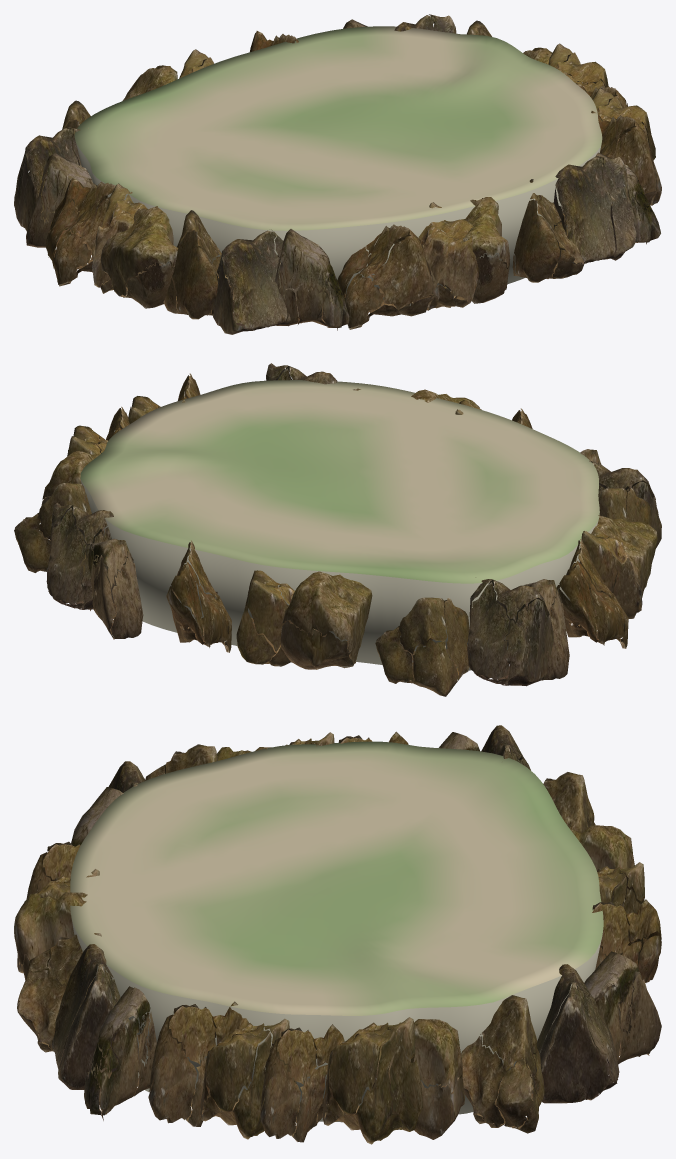
Rendered from sculpted_island_0.glb.
3 renders of one model, top to bottom at view 1: azimuth 30°, elevation 25°; view 2: azimuth 150°, elevation 25°; view 3: azimuth 270°, elevation 25°, orthographic. The views are drawn at different scales.
Visible parts, largest first — view 1: Road_Clearance_Turf, Merged_individual_rock_buttresses; view 2: Road_Clearance_Turf, Merged_individual_rock_buttresses; view 3: Road_Clearance_Turf, Merged_individual_rock_buttresses.
Boxes of the visible parts, x1,y1,x2,y2 form: Road_Clearance_Turf: (74, 26, 602, 307); Merged_individual_rock_buttresses: (14, 14, 661, 334); Road_Clearance_Turf: (80, 380, 599, 670); Merged_individual_rock_buttresses: (14, 363, 661, 696); Road_Clearance_Turf: (70, 741, 603, 1122); Merged_individual_rock_buttresses: (14, 725, 661, 1144).
Size of the model in its own units: 28.88 by 5.12 by 23.53.
Materials: 2 (1 with a texture image).
